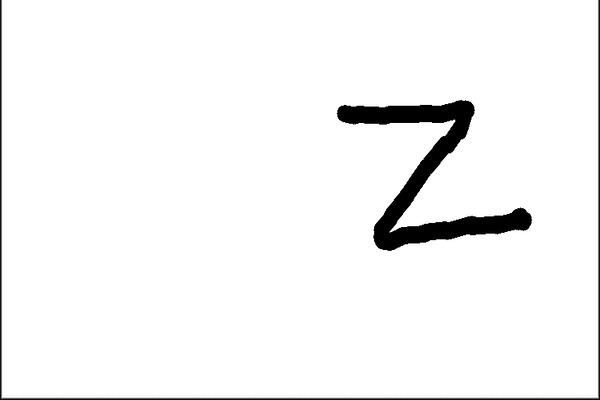Z: (329, 95, 538, 271)
